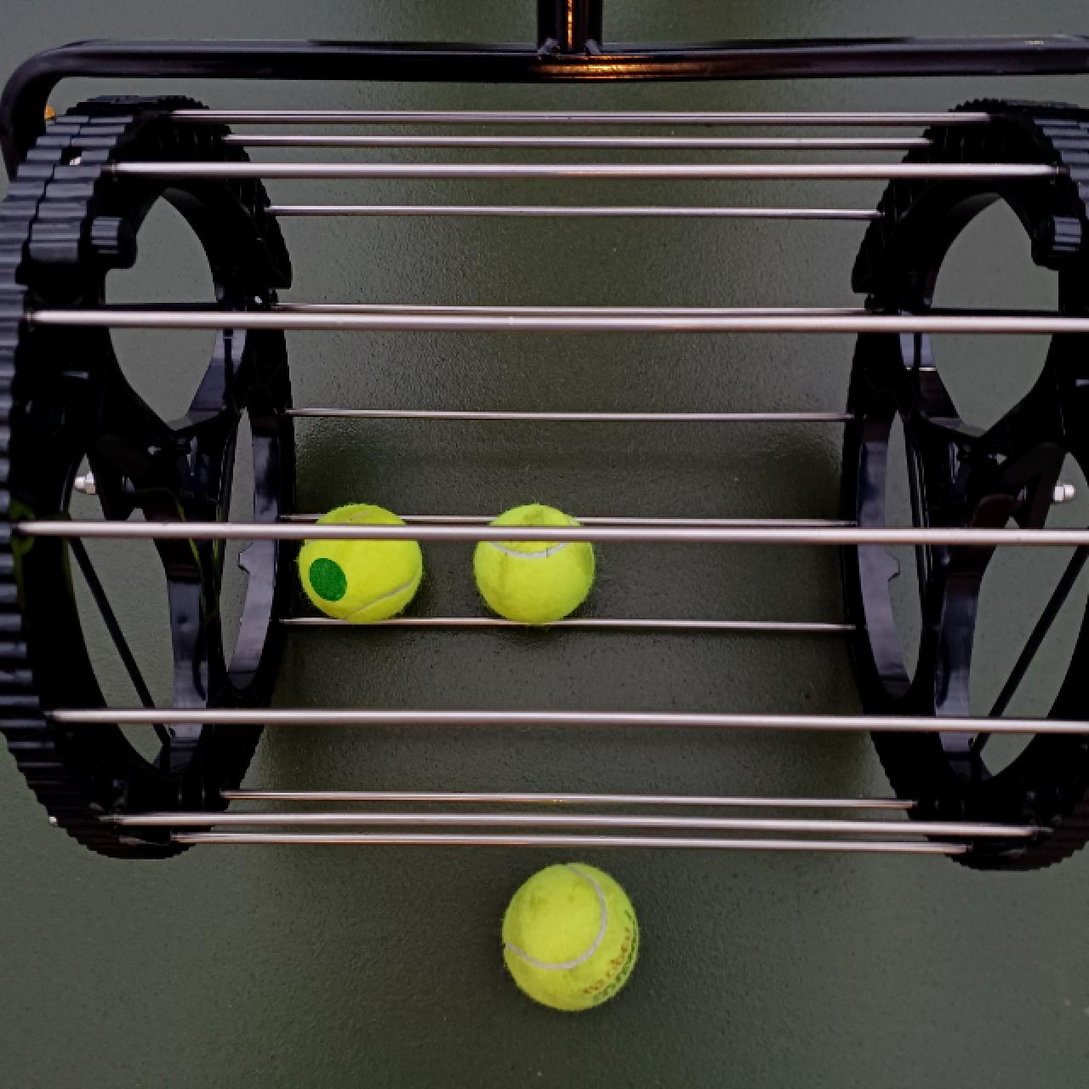tennis-ball: (500, 859, 640, 1016), (297, 501, 424, 623), (472, 501, 596, 625)
